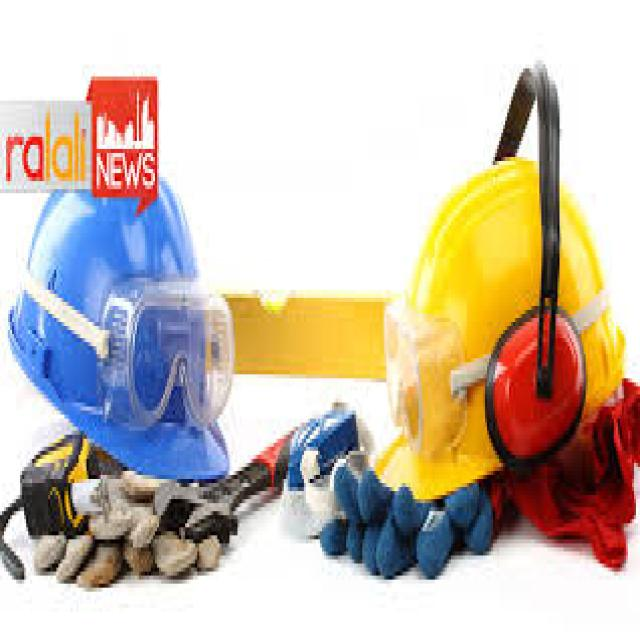glasses: (106, 285, 237, 426), (385, 292, 472, 464)
